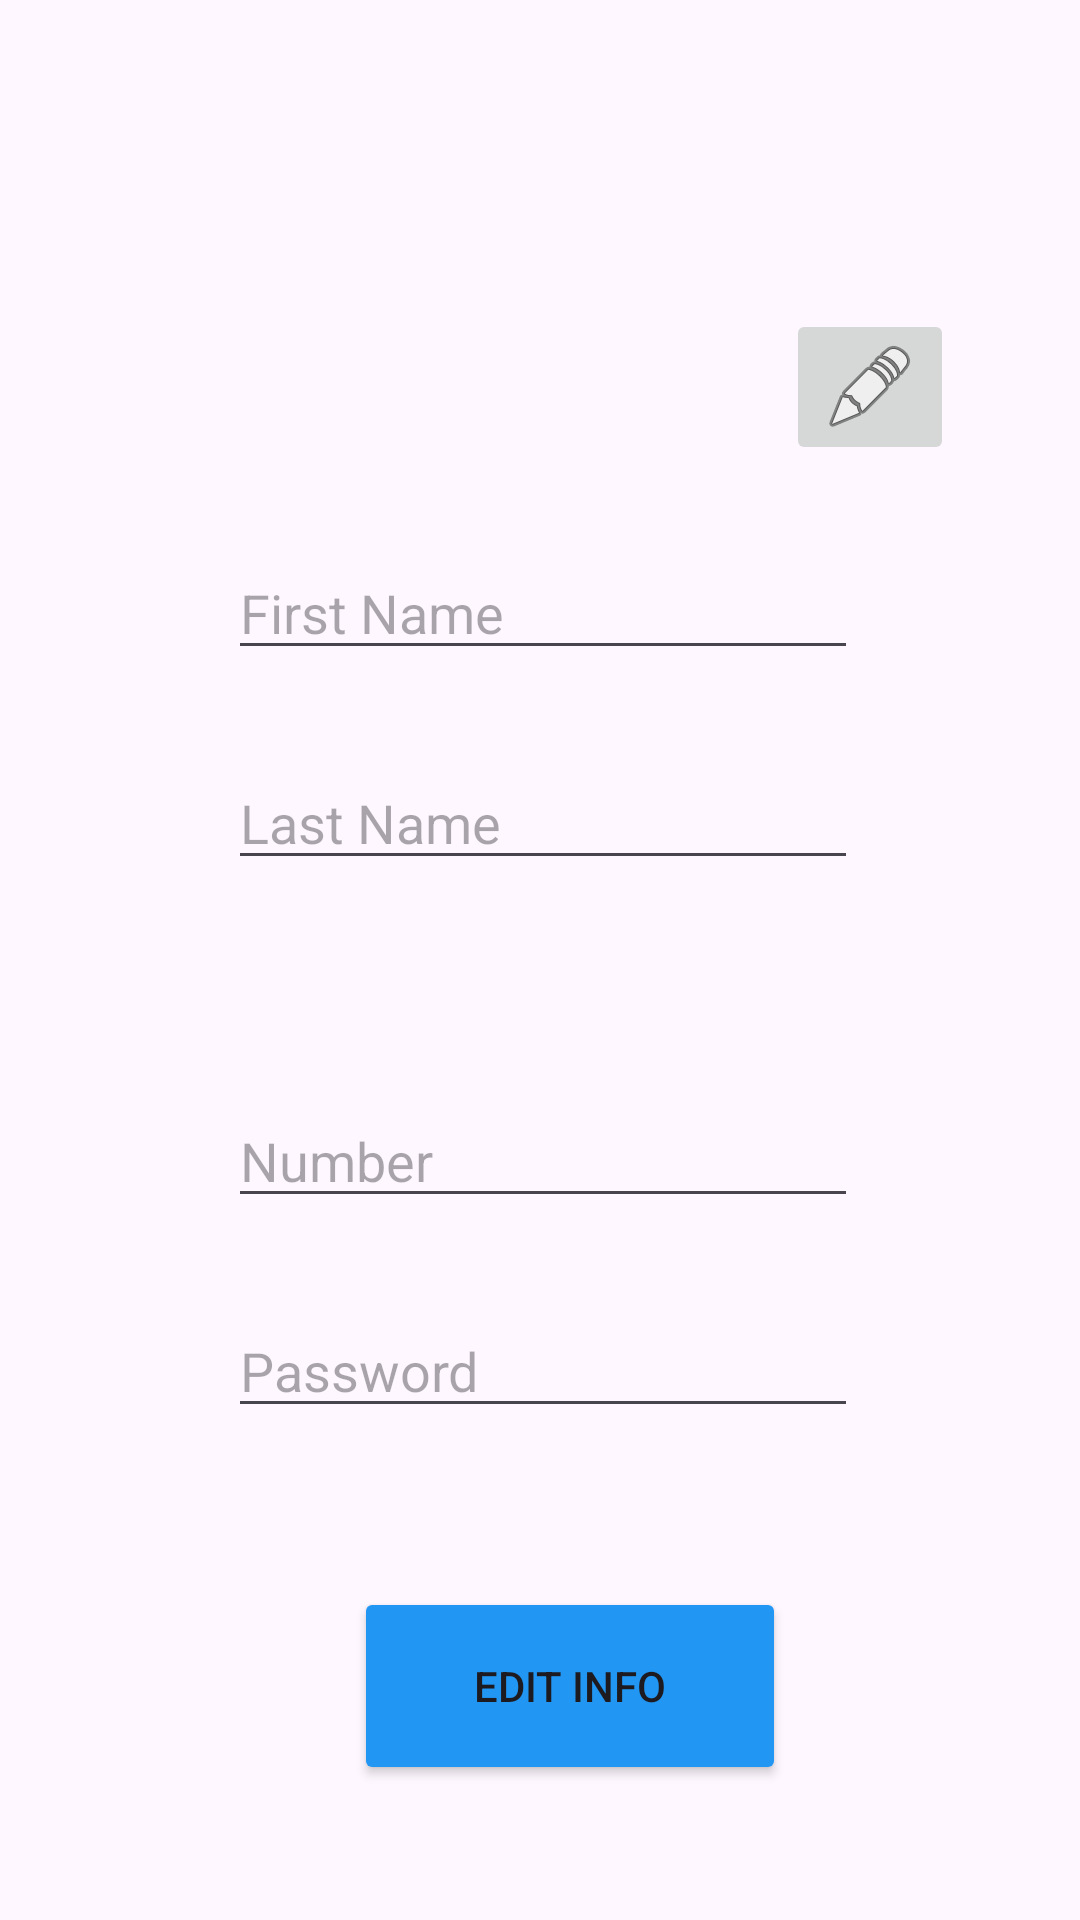

Screen size 1080x1920. Icon name, then its center in pixels as [x,y]:
edit: [870,387]
